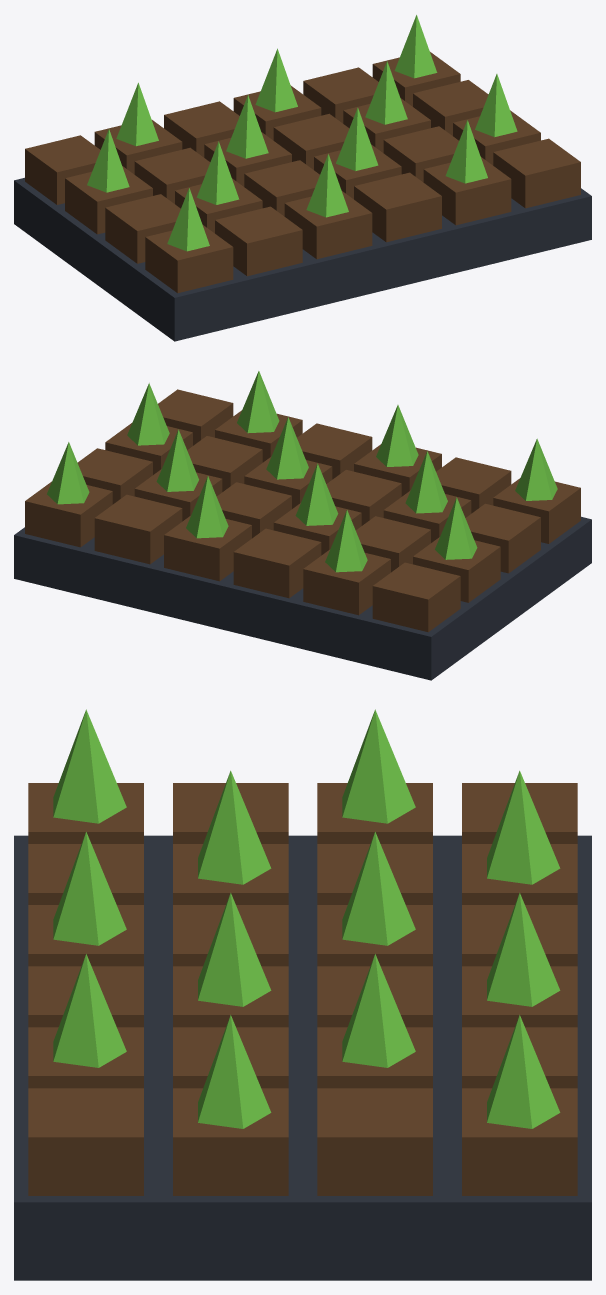
Rendered from hydro_seedling_tray.glb.
3 views of the same model, one above another, from view 1: azimuth 30°, elevation 25°; view 2: azimuth 150°, elevation 25°; view 3: azimuth 270°, elevation 25° (orthographic). The views are drawn at different scales.
Visible parts, largest first — view 1: seedling_tray; view 2: seedling_tray; view 3: seedling_tray.
Part boxes in pixels (<box>): seedling_tray: <box>14,15,591,341</box>; seedling_tray: <box>14,371,591,680</box>; seedling_tray: <box>14,709,591,1280</box>.
Size of the model in its own units: 0.6 by 0.18 by 0.4.
